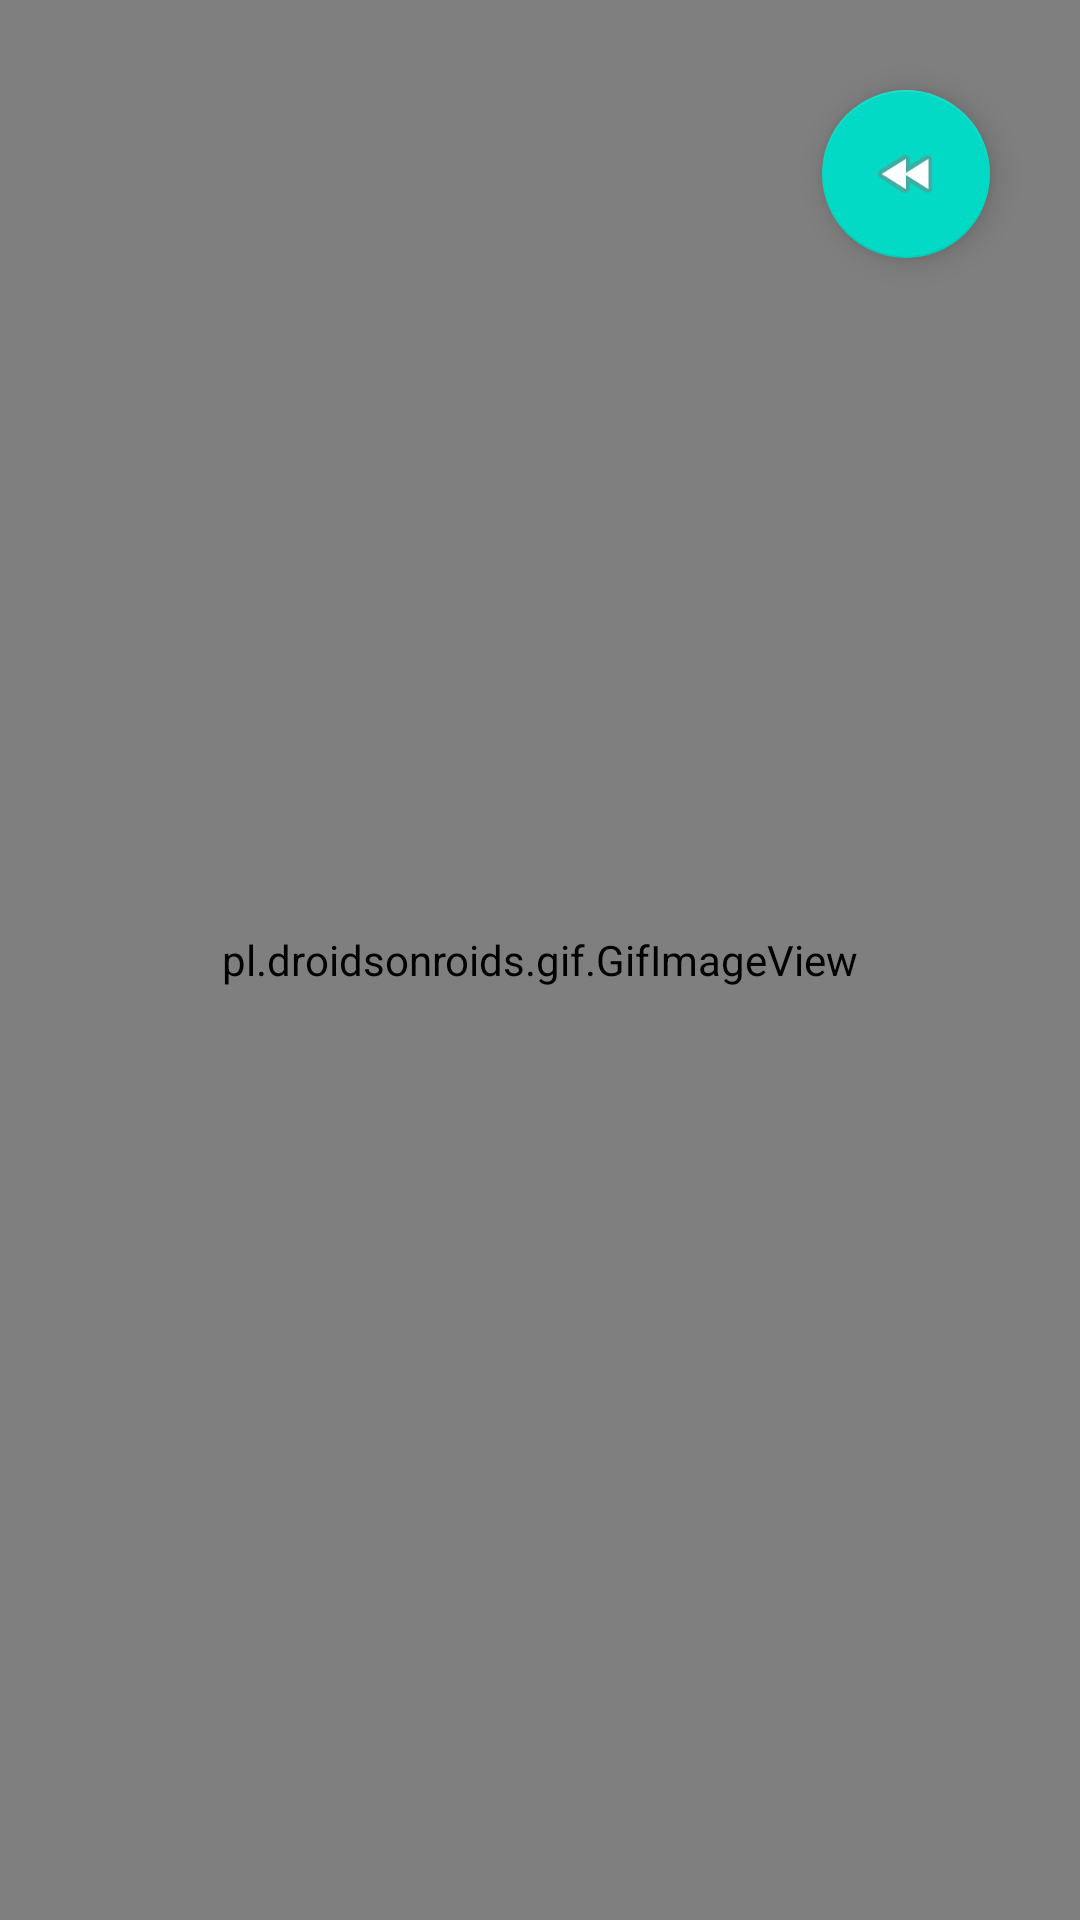

Icon bounding boxes for this 1080×1920 phone screenshot, format (x1, y1, x2, y2):
rew: (822, 90, 990, 258)
